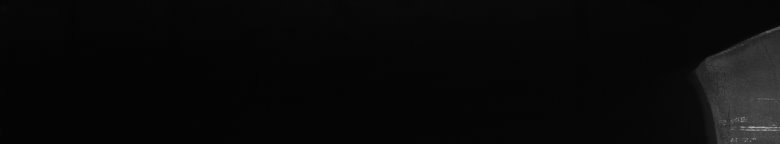kb: (684, 0, 776, 144)
